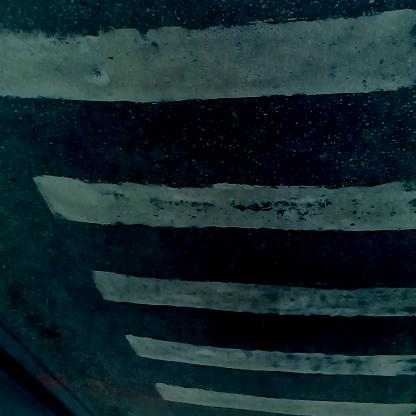crosswalk: (66, 10, 411, 405)
